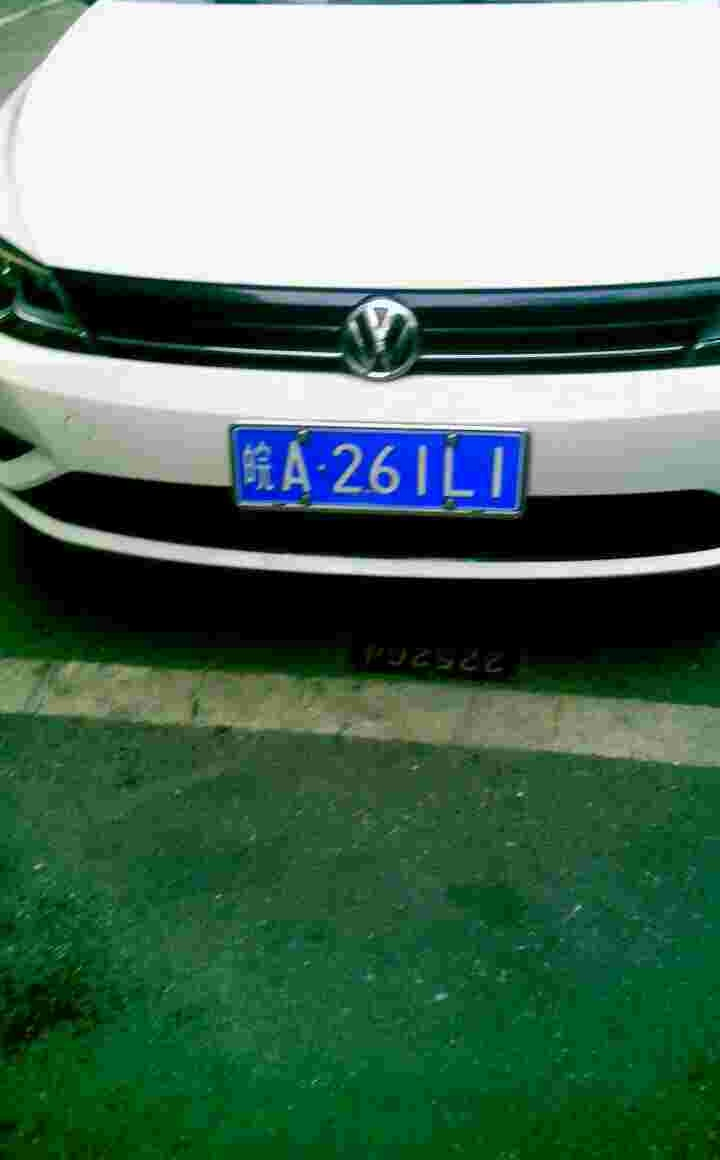license_plate: (229, 425, 526, 519)
